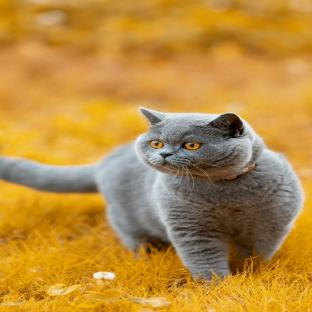Animal: (0, 107, 303, 280)
